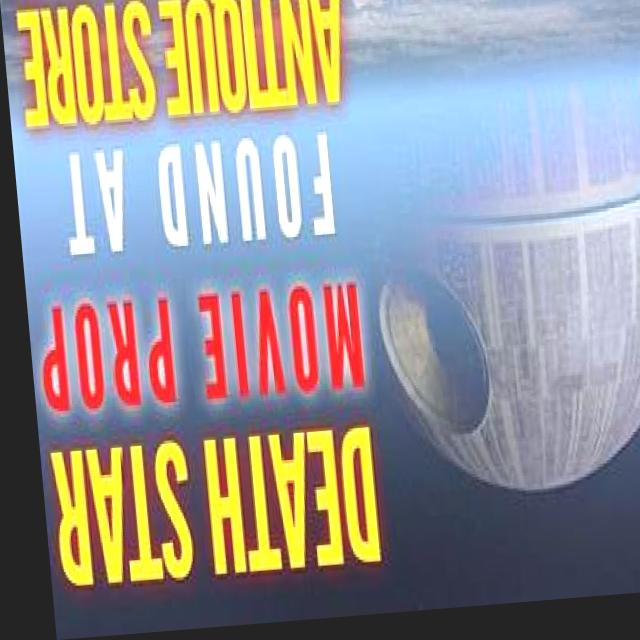deathStar: (347, 83, 640, 511)
